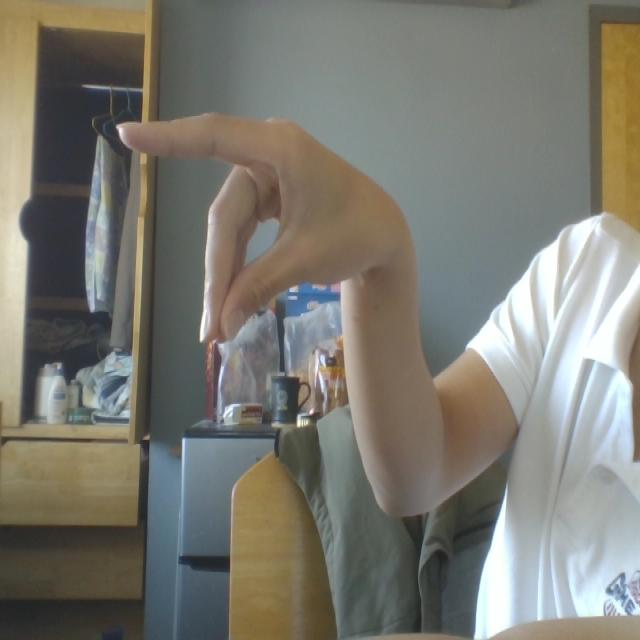P: (93, 72, 436, 346)
